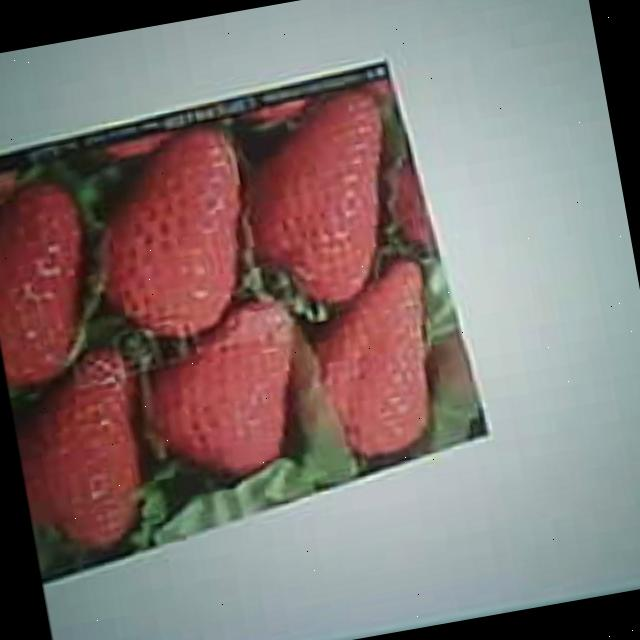strawberry: (81, 126, 262, 347), (232, 89, 409, 312), (280, 259, 450, 467), (135, 296, 312, 488), (6, 348, 159, 556), (0, 184, 106, 389)
